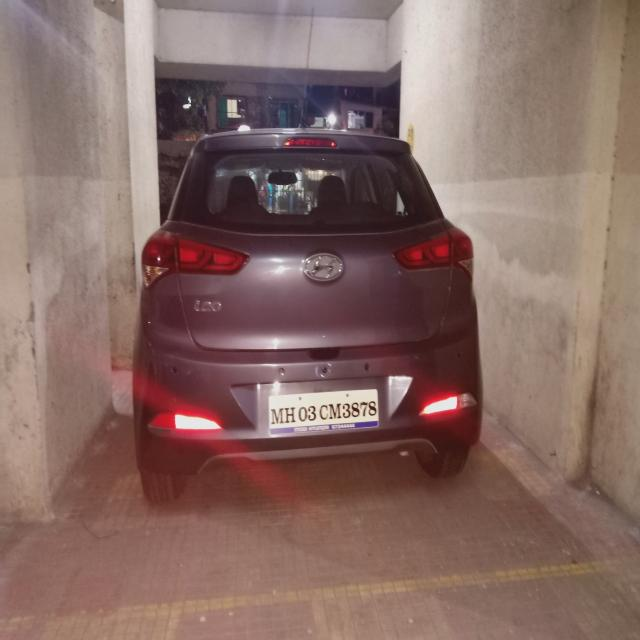Number-Plate: (268, 384, 379, 434)
